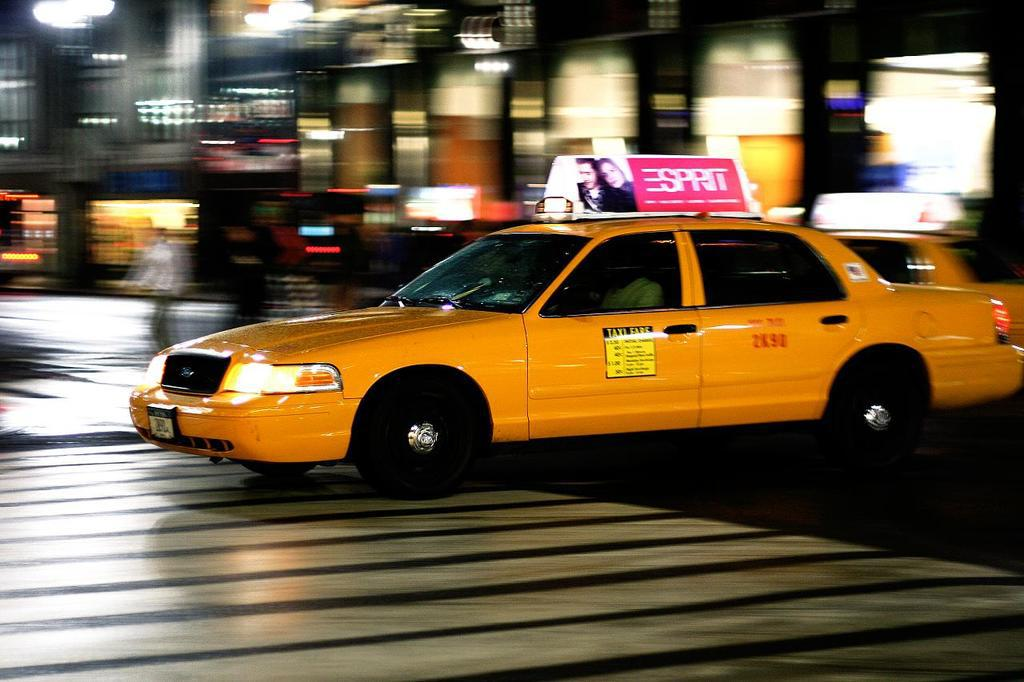taxi: (130, 155, 1024, 502)
